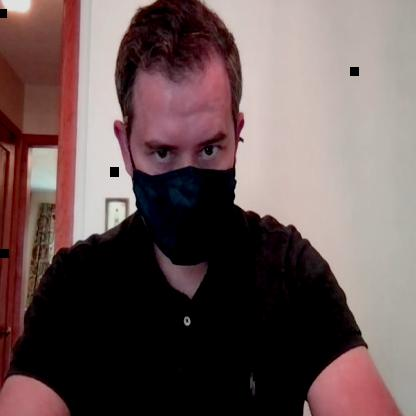mask: (116, 0, 244, 264)
